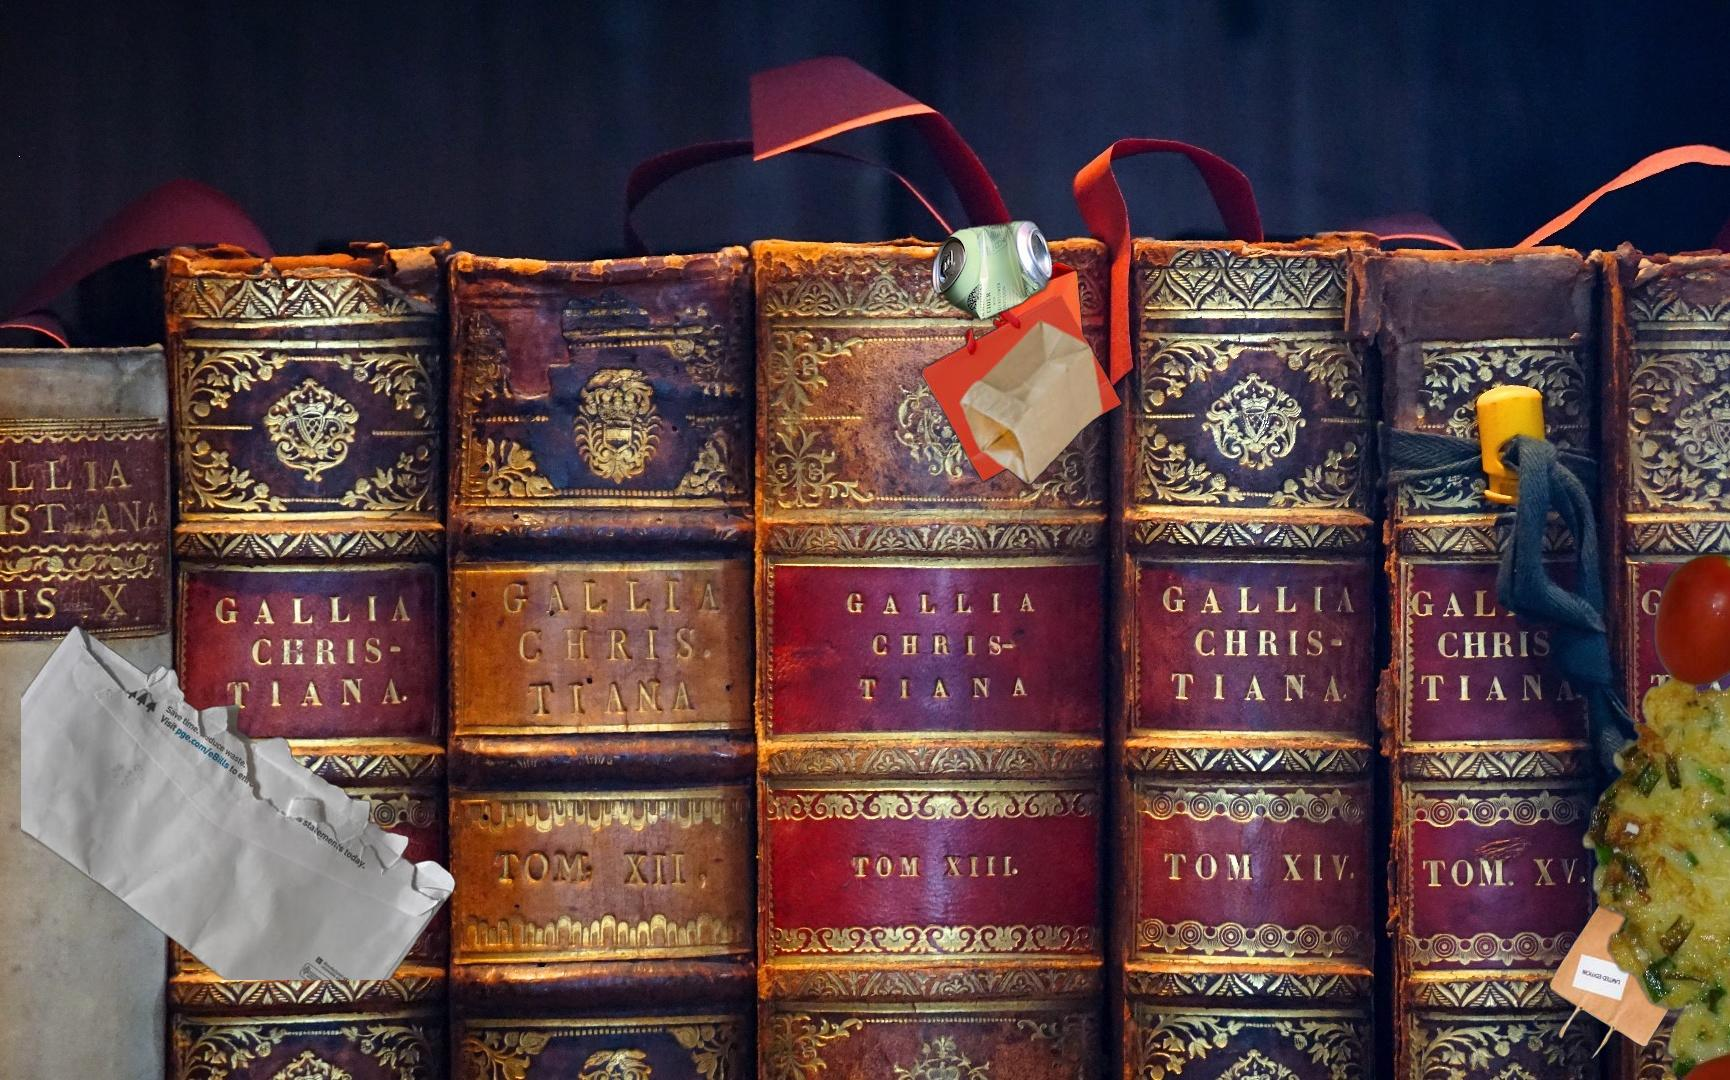biological: (1576, 536, 1730, 1080)
metal-cans: (913, 214, 1104, 626)
paper: (21, 622, 460, 980)
paper-bag: (920, 259, 1126, 486), (1546, 864, 1723, 1063)
